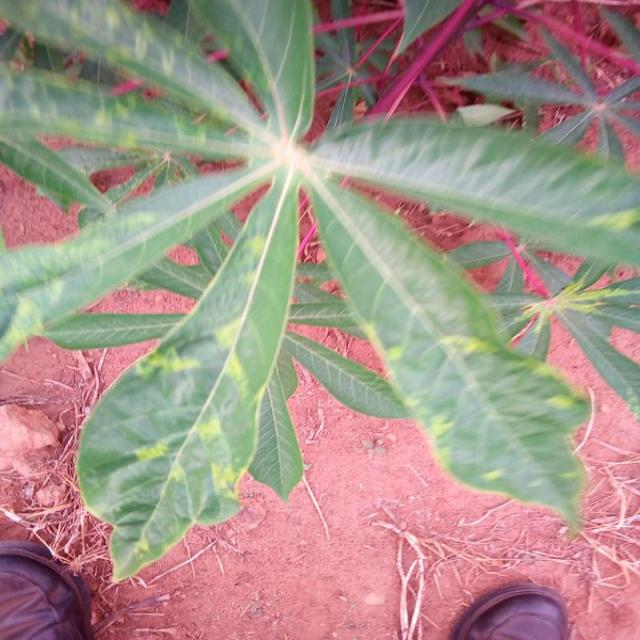cassava leaf: (1, 0, 638, 585), (74, 161, 302, 584)
